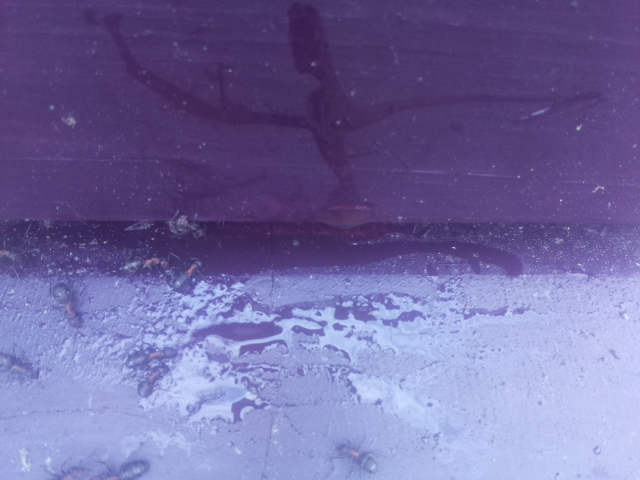ant: (325, 436, 385, 478), (46, 274, 84, 334), (166, 252, 207, 295), (160, 210, 211, 243), (0, 351, 37, 380)
